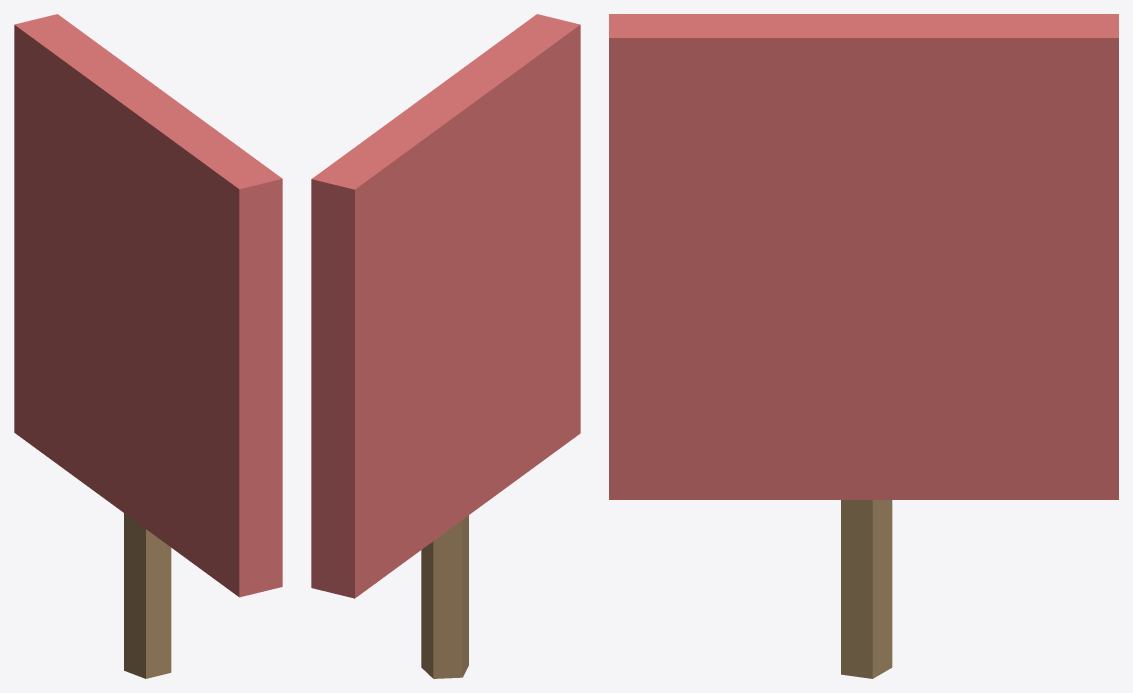
The model's file is fan.glb.
The picture shows the model from 3 angles, left to right: view 1: azimuth 30°, elevation 25°; view 2: azimuth 150°, elevation 25°; view 3: azimuth 270°, elevation 25°; orthographic projection. The views are drawn at different scales.
Visible parts, largest first — view 1: box, cyl; view 2: box, cyl; view 3: box, cyl.
Part boxes in pixels (x1,y1,x2,y2): box: (14, 14, 282, 597); cyl: (124, 513, 171, 678); box: (311, 14, 580, 598); cyl: (421, 515, 468, 678); box: (609, 14, 1118, 499); cyl: (841, 500, 892, 678).
Bounding box in the file's own units: 0.02 × 0.25 × 0.18.
